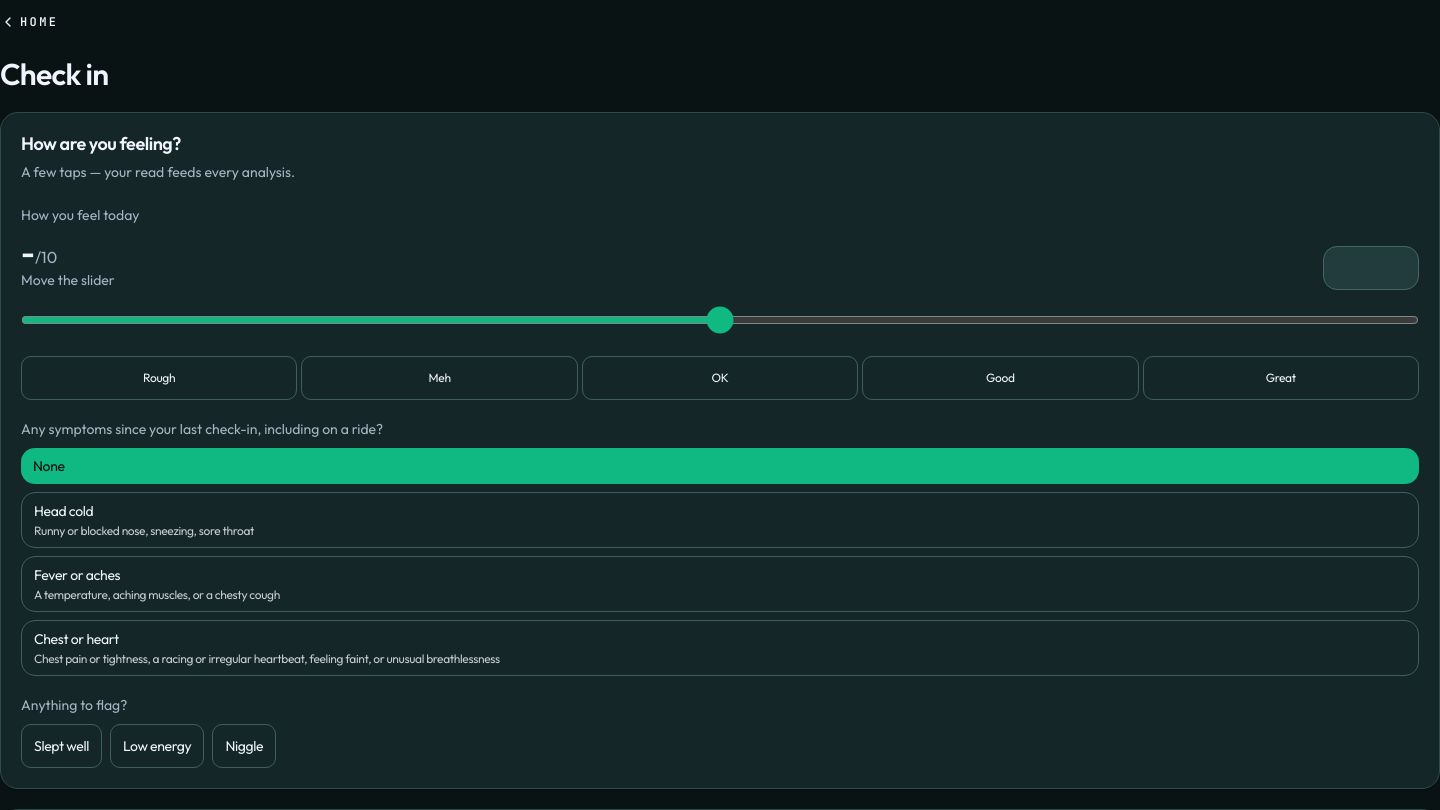
Test case: CheckInPage › shows the answer's medical notice the moment he picks it, before any save or brief (Batch 301)
Check: the text "Why this needs rest" is not shown
Check: the text "Why today is capped" is not shown
Click the radio button labelled "Chest or heart": (76, 638) x1=21 y1=620 x2=1419 y2=676
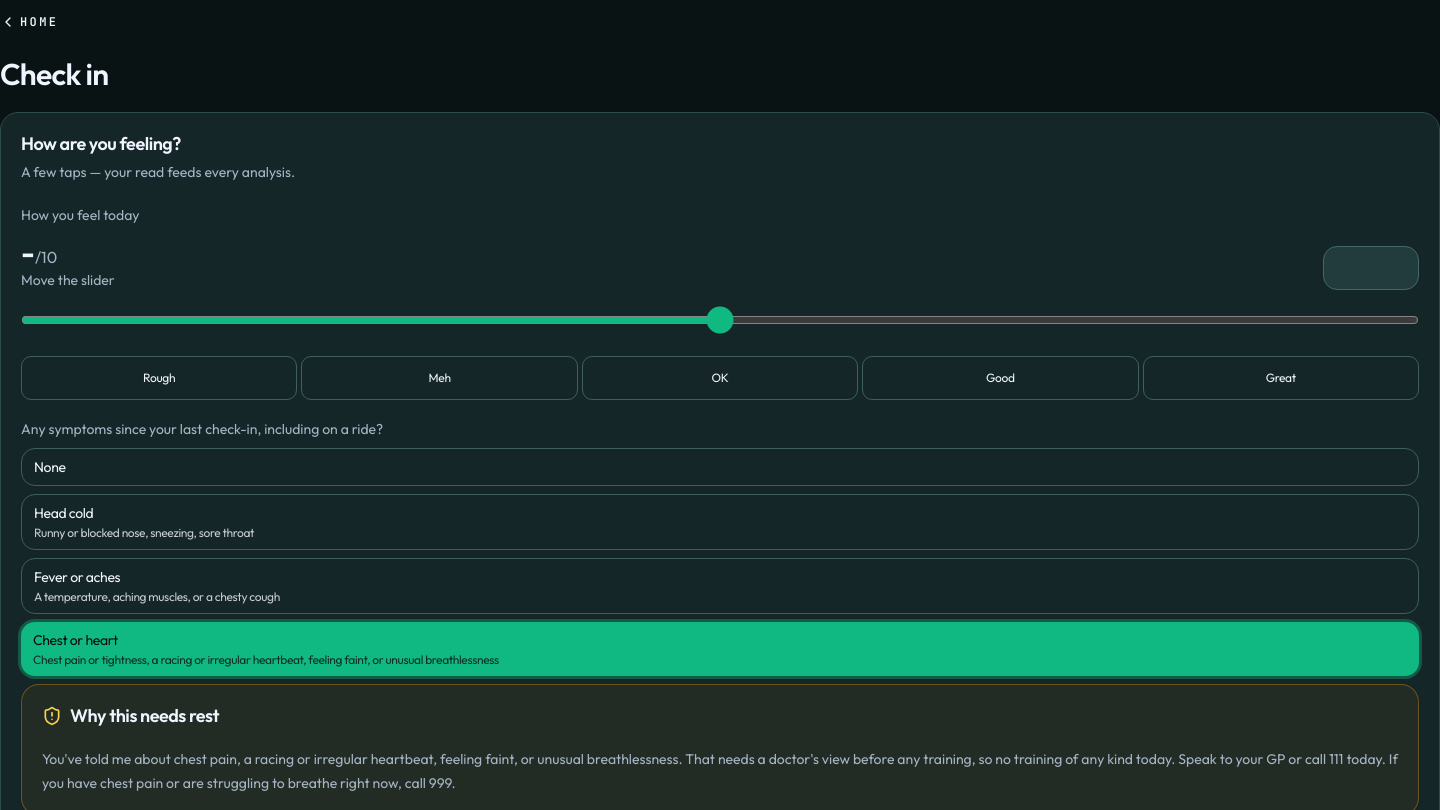
Check: the text "You've told me about chest pain, a racing or irregular heartbeat, feeling faint, or unusual breathlessness. That needs a" is shown, box x1=42 y1=750 x2=1398 y2=792
Check: the heading "Why this needs rest" is shown, box x1=42 y1=704 x2=219 y2=726
Click the radio button labelled "Fever or aches": (77, 576) x1=21 y1=558 x2=1419 y2=614
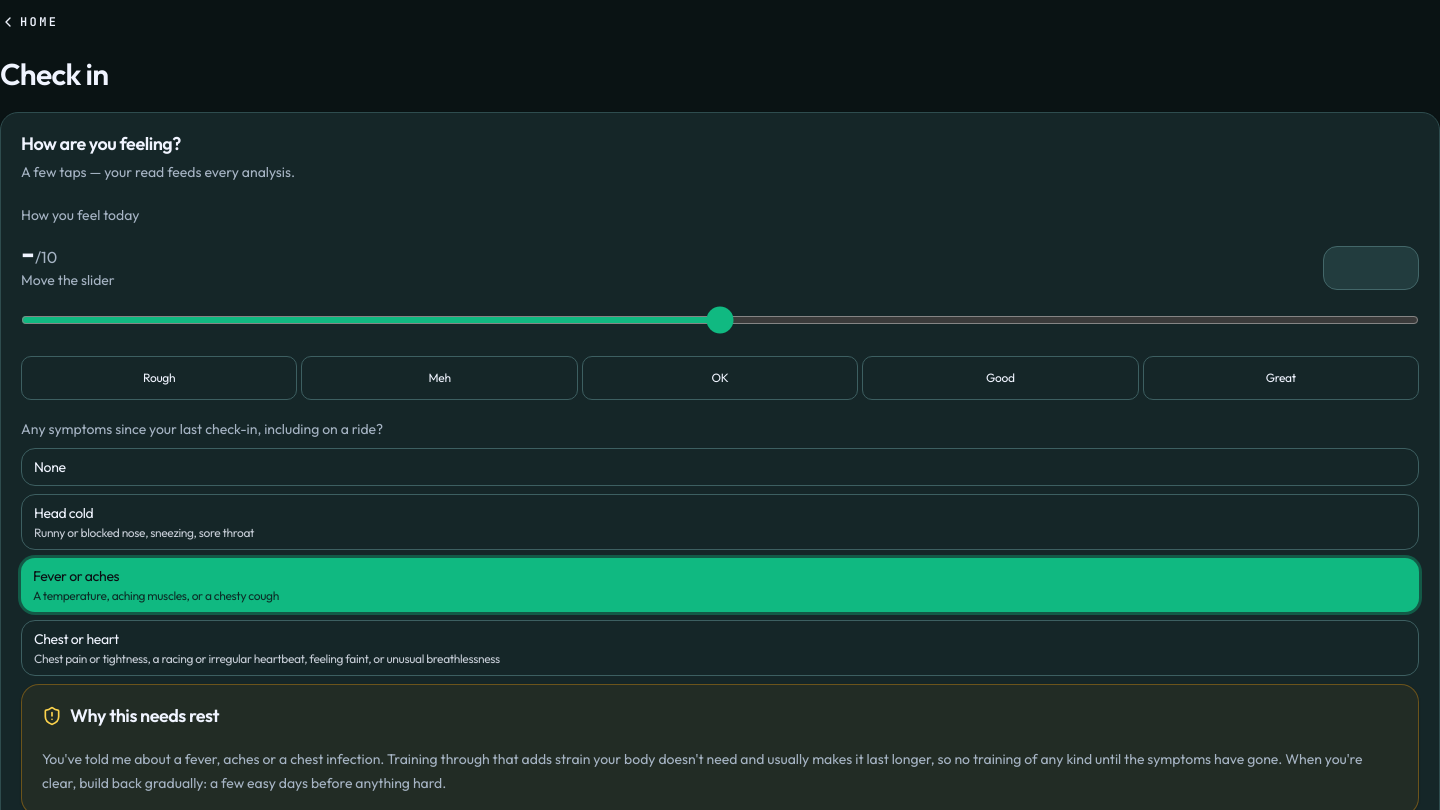
Check: the text "You've told me about chest pain, a racing or irregular heartbeat, feeling faint, or unusual breathlessness. That needs a" is gone
Click the radio button labelled "Head cold Runny or blocked nose, sneezing, sore throat": (64, 512) x1=21 y1=494 x2=1419 y2=550
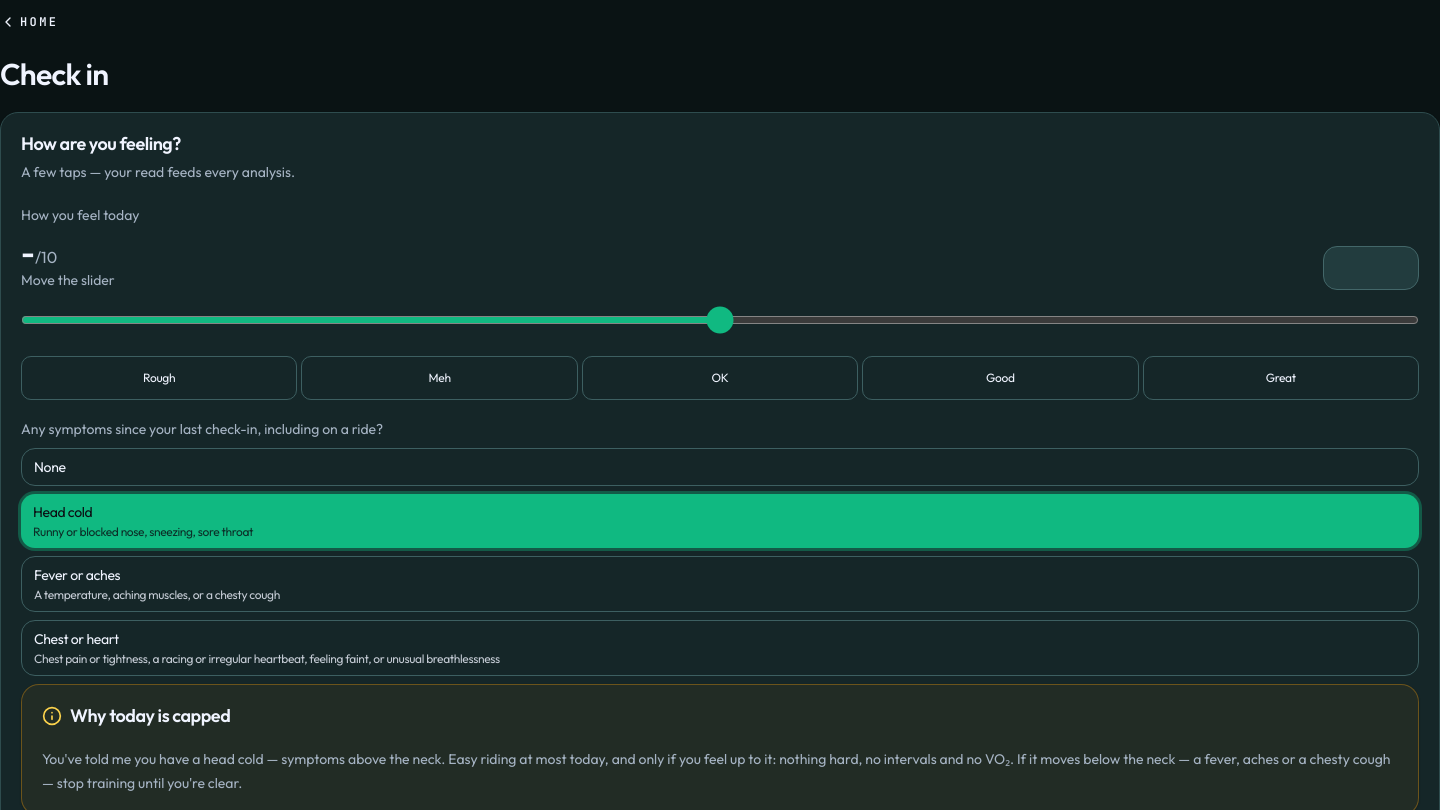
Check: the heading "Why today is capped" is shown, box x1=42 y1=704 x2=230 y2=726
Click the radio button labelled "None": (50, 466) x1=21 y1=448 x2=1419 y2=486
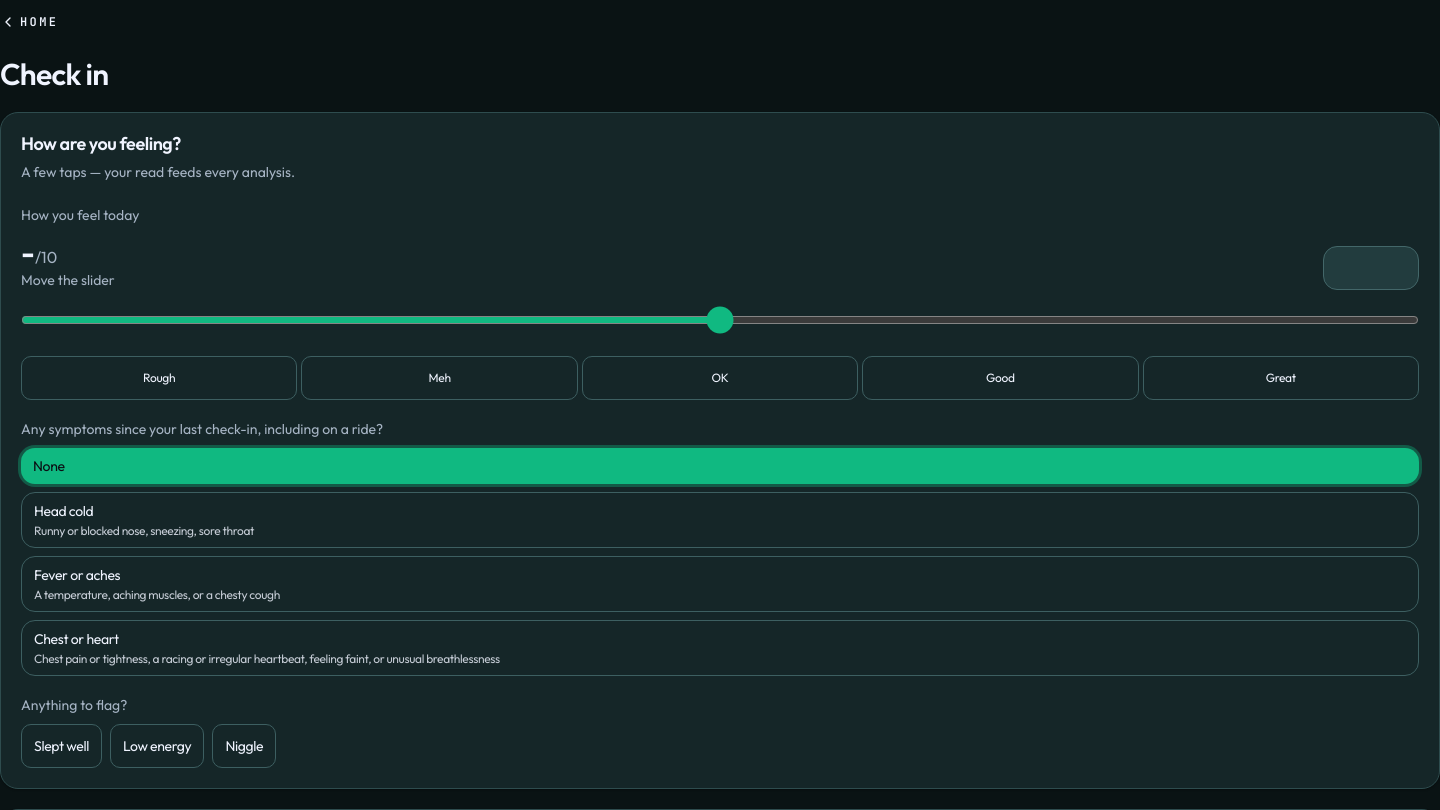
Check: the text "You've told me you have a head cold — symptoms above the neck. Easy riding at most today, and only if you feel up to it:" is gone
Check: the heading "Why today is capped" is gone
